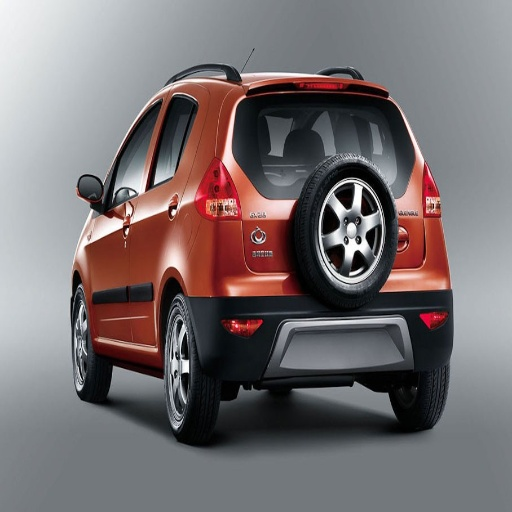back_bumper: (196, 271, 436, 379)
back_glass: (258, 95, 338, 134)
back_left_door: (131, 90, 201, 343)
trunk: (206, 160, 310, 294)
